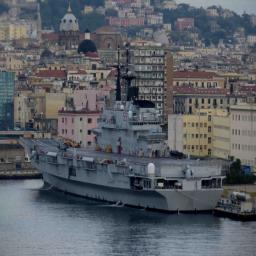Portanaves: (18, 47, 228, 216)
